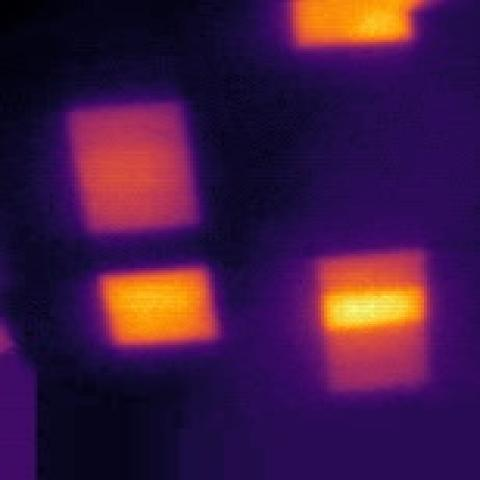fault: (58, 100, 221, 239), (303, 248, 440, 400), (91, 262, 227, 350), (282, 0, 433, 53)
